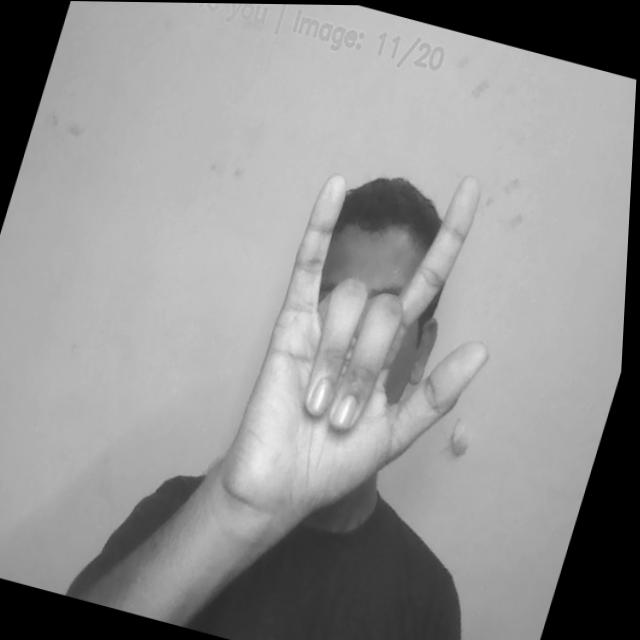I love you: (231, 135, 544, 540)
